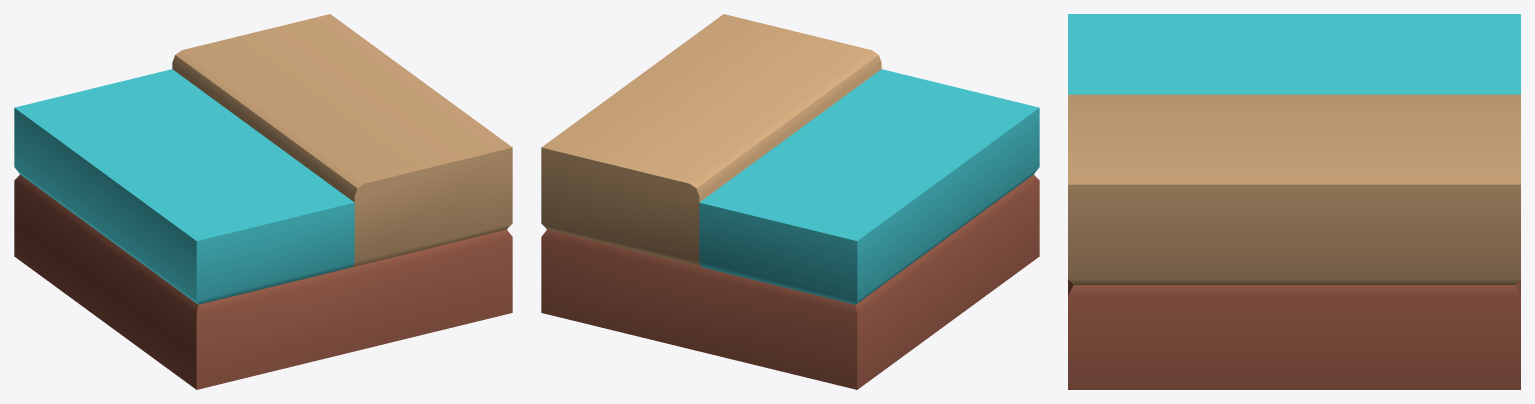
Rendered from kaykit-square-sand-waterstraight.glb.
3 views of the same model, side by side, from view 1: azimuth 30°, elevation 25°; view 2: azimuth 150°, elevation 25°; view 3: azimuth 270°, elevation 25° (orthographic). The views are drawn at different scales.
Visible parts, largest first — view 1: square_sand_waterStraight; view 2: square_sand_waterStraight; view 3: square_sand_waterStraight.
Part boxes in pixels (<box>): square_sand_waterStraight: <box>14,14,512,389</box>; square_sand_waterStraight: <box>541,14,1039,389</box>; square_sand_waterStraight: <box>1068,14,1520,389</box>.
Bounding box in the file's own units: 2 × 1 × 2.
